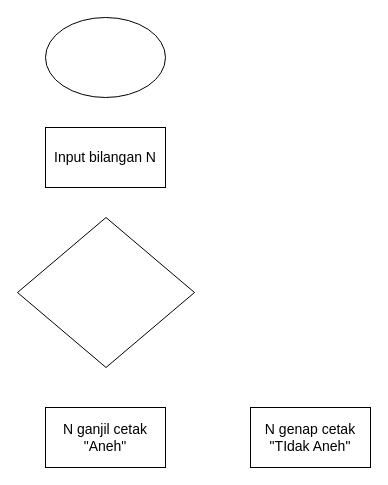
The diagram is 388 pixels wide and 485 high, and some of its shapes have lost their labels. The box of each missing label's shape, as (x1, y1, x2, y2) in pixels:
Mulai: (44, 16, 166, 98)
N ganjil atau genap?: (16, 216, 194, 368)
